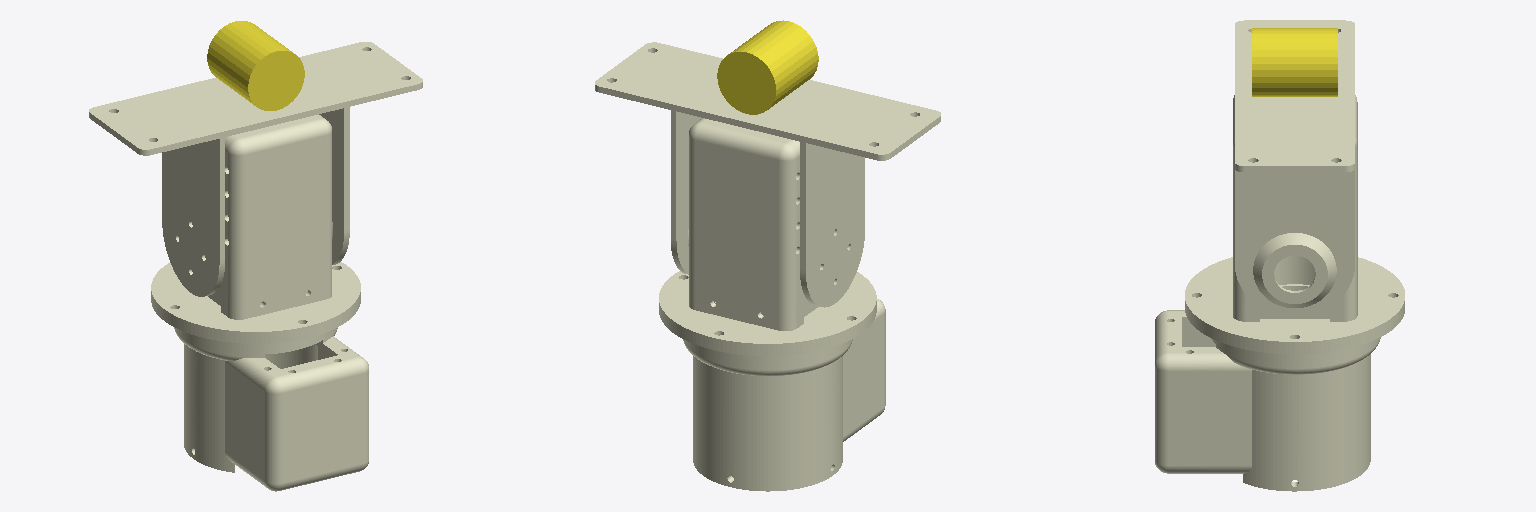
robot.urdf — mastcam:
<robot name="mastcam">

  <link name="base_link">
    <visual>
      <origin xyz="0 0 0" rpy="0 0 0"/>
      <geometry>
        <mesh filename="package://ag_mastcam/meshes/link_1.stl" scale="0.001 0.001 0.001"/>
      </geometry>
      <material name="Grey">
        <color rgba="0.9 0.9 0.8 1.0"/>
      </material>
    </visual>
  </link>
  
  <link name="link_1">
    <visual>
      <origin xyz="0 0 -0.049" rpy="0 0 3.14159"/>
      <geometry>
        <mesh filename="package://ag_mastcam/meshes/link_2.stl" scale="0.001 0.001 0.001"/>
      </geometry>
      <material name="Grey">
        <color rgba="0.9 0.9 0.8 1.0"/>
      </material>
    </visual>
  </link>

  <link name="link_2">
    <visual>
      <origin xyz="0 -0.0716 0" rpy="0 1.5708 1.5708"/>
      <geometry>
        <mesh filename="package://ag_mastcam/meshes/link_3.stl" scale="0.001 0.001 0.001"/>
      </geometry>
      <material name="Grey">
        <color rgba="0.9 0.9 0.8 1.0"/>
      </material>
    </visual>
  </link>

  <link name="camera_link">
    <visual>
      <origin xyz="0.0 0.0 0.0" rpy="0.0 0.0 0.0"/>
      <geometry>
        <cylinder radius="0.01" length="0.025"/>
      </geometry>  
    </visual>
  </link>


  <joint name="pan_joint" type="revolute">
    <parent link="base_link"/>
    <child link="link_1"/>
    <origin xyz="0 0 0.049" rpy="0 0 0"/>
    <axis xyz="0 0 1"/>

    <!-- Joint limits -->
    <limit lower="1.5708" upper="4.7124" velocity="11.5" effort="100"/>
    <!-- Soft limits -->
    <safety_controller k_position="3"
                    k_velocity="1000"
                    soft_lower_limit="-10.1415"
                    soft_upper_limit="10.1415" />
  </joint>

  <joint name="tilt_joint" type="revolute">
    <parent link="link_1"/>
    <child link="link_2"/>
    <origin xyz="0 0 0.0226" rpy="-1.5708 0 -1.5708"/>
    <axis xyz="0 0 1"/>

    <!-- Joint limits -->
    <limit lower="1.5708" upper="4.7124" velocity="11.5" effort="100"/>
    <!-- Soft limits -->
    <safety_controller k_position="3"
                    k_velocity="1000"
                    soft_lower_limit="-10.1415"
                    soft_upper_limit="10.1415" />
  </joint>

  <joint name="camera_joint" type="fixed">
    <parent link="link_2"/>
    <child link="camera_link"/>
    <origin xyz="0 0.056 0" rpy="3.14159 1.5708 0"/>
  </joint>
 
</robot>

--- Render facts (derived) ---
3 views of the same robot in one strip: view 1: azimuth 30°, elevation 25°; view 2: azimuth 150°, elevation 25°; view 3: azimuth 270°, elevation 25° (orthographic).
Robot: mastcam — 4 links, 3 joints (2 revolute, 1 fixed); root link base_link; default pose: all joints at 0 but 2 set to mid-range because 0 is outside their limits (pan_joint = 3.14, tilt_joint = 3.14).
Links seen in each view (by area): view 1: link_1, link_2, base_link, camera_link; view 2: link_1, link_2, base_link, camera_link; view 3: base_link, link_2, link_1, camera_link.
Boxes of the visible links, left/top/right/bottom form: link_1: left=151, top=114, right=360, bottom=343; link_2: left=89, top=42, right=422, bottom=296; base_link: left=174, top=327, right=368, bottom=491; camera_link: left=207, top=21, right=304, bottom=110; link_1: left=659, top=118, right=876, bottom=355; link_2: left=595, top=42, right=940, bottom=307; base_link: left=683, top=299, right=885, bottom=491; camera_link: left=717, top=20, right=818, bottom=114; base_link: left=1155, top=310, right=1380, bottom=491; link_2: left=1235, top=20, right=1354, bottom=316; link_1: left=1185, top=95, right=1404, bottom=354; camera_link: left=1252, top=28, right=1337, bottom=96.
Size in the robot's own frame: 0.1 by 0.0727 by 0.1371 metres.
3 mesh visuals loaded from 3 distinct referenced files (3 binary STL).